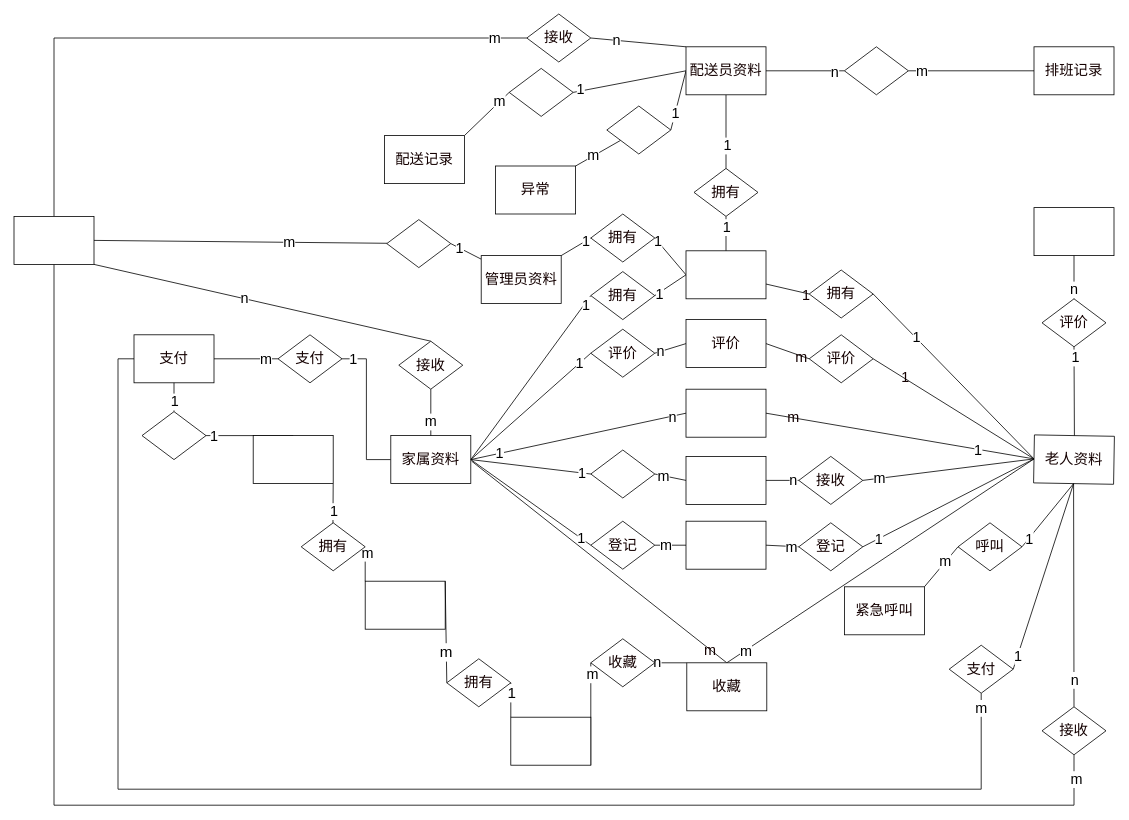
Some shapes in this 1129 by 820 pixel diagram are drawn without their labels. Each missing label, with the centre of its shape:
"健康提醒" goes at [725,480].
"健康记录" goes at [725,544].
"公告表" goes at [53,240].
"关系" goes at [725,412].
"创建" goes at [173,435].
"发布" goes at [418,243].
"发送" goes at [622,473].
"用户" goes at [725,274].
"社区" goes at [1073,231].
"订单" goes at [292,459].
"订单餐品" goes at [404,604].
"记录" goes at [638,129].
"设置" goes at [876,70].
"配送" goes at [540,92].
"餐品" goes at [550,740].
